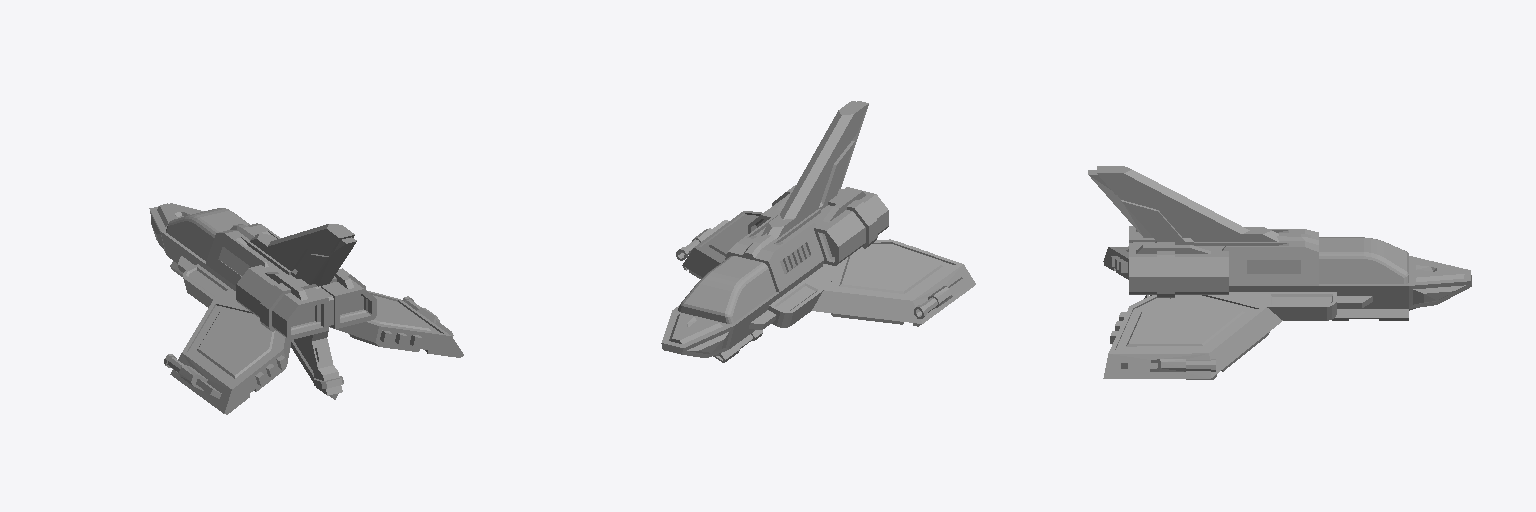
The model's file is fighter01.obj.
The picture shows the model from 3 angles: view 1: azimuth 30°, elevation 25°; view 2: azimuth 150°, elevation 25°; view 3: azimuth 270°, elevation 25°; orthographic projection.
Visible parts, largest first — view 1: mesh; view 2: mesh; view 3: mesh.
Boxes of the visible parts, x1,y1,x2,y2 form: mesh: [149, 203, 463, 414]; mesh: [661, 101, 975, 362]; mesh: [1088, 166, 1471, 379].
Size of the model in its own units: 8 by 5.31 by 10.67.